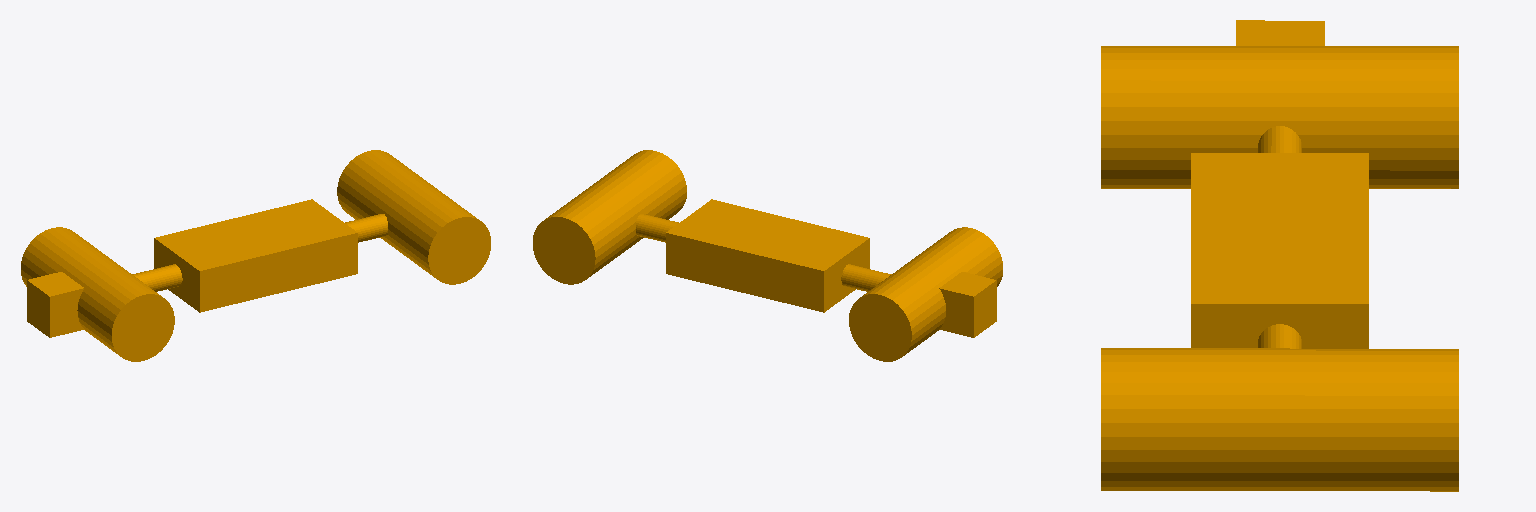
URDF robot description (ez_rassor):
<?xml version="1.0" ?>
<robot name="ez_rassor">
  <joint name="left_wheel_back_hinge" type="revolute">
    <parent link="base_link"/>
    <child link="left_wheel_back"/>
    <origin rpy="0  0  0" xyz="-0.15  0.15  0"/>
    <axis xyz="0  1  0"/>
    <limit effort="-1.0" lower="-1e+16" upper="1e+16" velocity="-1.0"/>
  </joint>
  <joint name="left_wheel_front_hinge" type="revolute">
    <parent link="base_link"/>
    <child link="left_wheel_front"/>
    <origin rpy="0  0  0" xyz="0.15  0.15  0"/>
    <axis xyz="0  1  0"/>
    <limit effort="-1.0" lower="-1e+16" upper="1e+16" velocity="-1.0"/>
  </joint>
  <joint name="right_wheel_back_hinge" type="revolute">
    <parent link="base_link"/>
    <child link="right_wheel_back"/>
    <origin rpy="0  0  0" xyz="-0.15 -0.15  0"/>
    <axis xyz="0  1  0"/>
    <limit effort="-1.0" lower="-1e+16" upper="1e+16" velocity="-1.0"/>
  </joint>
  <joint name="right_wheel_front_hinge" type="revolute">
    <parent link="base_link"/>
    <child link="right_wheel_front"/>
    <origin rpy="0  0  0" xyz="0.15 -0.15  0"/>
    <axis xyz="0  1  0"/>
    <limit effort="-1.0" lower="-1e+16" upper="1e+16" velocity="-1.0"/>
  </joint>
  <link name="base_link">
    <inertial>
      <mass value="22"/>
      <origin rpy="0  0  0" xyz="0       0       0.00454"/>
      <inertia ixx="1" ixy="0" ixz="0" iyy="1" iyz="0" izz="1"/>
    </inertial>
    <collision name="ez_rassor_base_link_fixed_joint_lump__collision_collision_1">
      <origin rpy="3.14159000e+00   1.57079000e+00  -8.90000000e-04" xyz="-3.00000000e-01   8.00000000e-05   0.00000000e+00"/>
      <geometry>
        <cylinder length="0.3" radius="0.025"/>
      </geometry>
    </collision>
    <collision name="ez_rassor_base_link_fixed_joint_lump__camera_back_collision_3">
      <origin rpy="3.14159  1.57079  1.56841" xyz="-5.00000000e-01   3.10000000e-04   0.00000000e+00"/>
      <geometry>
        <box size="0.1 0.1 0.1"/>
      </geometry>
    </collision>
    <collision name="ez_rassor_base_link_fixed_joint_lump__collision_collision">
      <origin rpy="0  0  0" xyz="0  0  0"/>
      <geometry>
        <box size="0.4 0.2 0.1"/>
      </geometry>
    </collision>
    <collision name="ez_rassor_base_link_fixed_joint_lump__collision_collision_2">
      <origin rpy="-3.14159  1.57079  1.56911" xyz="-4.00000000e-01   1.50000000e-04   0.00000000e+00"/>
      <geometry>
        <cylinder length="0.05" radius="0.07"/>
      </geometry>
    </collision>
    <collision name="ez_rassor_base_link_fixed_joint_lump__collision_collision_4">
      <origin rpy="3.14159000e+00   1.57079000e+00  -8.90000000e-04" xyz="3.00000000e-01  -8.00000000e-05   0.00000000e+00"/>
      <geometry>
        <cylinder length="0.3" radius="0.025"/>
      </geometry>
    </collision>
    <collision name="ez_rassor_base_link_fixed_joint_lump__collision_collision_5">
      <origin rpy="-3.14159  1.57079  1.56911" xyz="4.00000000e-01  -1.50000000e-04   0.00000000e+00"/>
      <geometry>
        <cylinder length="0.05" radius="0.07"/>
      </geometry>
    </collision>
    <visual name="ez_rassor_base_link_fixed_joint_lump__arm_back_visual_visual_1">
      <origin rpy="-3.14157000e+00   1.57079000e+00  -8.60000000e-04" xyz="-3.00000000e-01   8.00000000e-05   0.00000000e+00"/>
      <geometry>
        <cylinder length="0.3" radius="0.025"/>
      </geometry>
    </visual>
    <visual name="ez_rassor_base_link_visual_visual">
      <origin rpy="0  0  0" xyz="0  0  0"/>
      <geometry>
        <box size="0.4 0.2 0.1"/>
      </geometry>
    </visual>
    <visual name="ez_rassor_base_link_fixed_joint_lump__arm_front_visual_visual_4">
      <origin rpy="-3.14157000e+00   1.57079000e+00  -8.60000000e-04" xyz="3.00000000e-01  -8.00000000e-05   0.00000000e+00"/>
      <geometry>
        <cylinder length="0.3" radius="0.025"/>
      </geometry>
    </visual>
    <visual name="ez_rassor_base_link_fixed_joint_lump__drum_back_visual_2">
      <origin rpy="-3.14075  1.57079  1.56995" xyz="-4.00000000e-01   1.50000000e-04   0.00000000e+00"/>
      <geometry>
        <cylinder length="0.4" radius="0.08"/>
      </geometry>
    </visual>
    <visual name="ez_rassor_base_link_fixed_joint_lump__camera_back_visual_3">
      <origin rpy="0    0    3.14" xyz="-5.00000000e-01   3.10000000e-04   0.00000000e+00"/>
      <geometry>
        <box size="0.1 0.1 0.1"/>
      </geometry>
    </visual>
    <visual name="ez_rassor_base_link_fixed_joint_lump__drum_front_visual_visual_5">
      <origin rpy="-3.14075  1.57079  1.56995" xyz="4.00000000e-01  -1.50000000e-04   0.00000000e+00"/>
      <geometry>
        <cylinder length="0.4" radius="0.08"/>
      </geometry>
    </visual>
  </link>
  <link name="left_wheel_back">
    <inertial>
      <mass value="0.5"/>
      <origin rpy="0      1.5707  1.5707" xyz="0  0  0"/>
      <inertia ixx="0.00135417" ixy="0" ixz="0" iyy="0.00135417" iyz="0" izz="0.0025"/>
    </inertial>
    <collision name="ez_rassor_left_wheel_back_fixed_joint_lump__collision_collision">
      <origin rpy="3.14159  1.57079 -1.57089" xyz="0   -0.06  0"/>
      <geometry>
        <mesh filename="package://ez_rassor_description/meshes/wheel.dae" scale="1.0 1.0 1.0"/>
      </geometry>
    </collision>
    <visual name="ez_rassor_left_wheel_back_visual_visual">
      <origin rpy="-3.12268  1.57079 -1.55198" xyz="0   -0.06  0"/>
      <geometry>
        <mesh filename="package://ez_rassor_description/meshes/wheel.dae" scale="1 1 1"/>
      </geometry>
    </visual>
  </link>
  <link name="left_wheel_front">
    <inertial>
      <mass value="0.5"/>
      <origin rpy="0      1.5707  1.5707" xyz="0  0  0"/>
      <inertia ixx="0.00135417" ixy="0" ixz="0" iyy="0.00135417" iyz="0" izz="0.0025"/>
    </inertial>
    <collision name="ez_rassor_left_wheel_front_fixed_joint_lump__collision_collision">
      <origin rpy="3.14159  1.57079 -1.57089" xyz="0   -0.06  0"/>
      <geometry>
        <mesh filename="package://ez_rassor_description/meshes/wheel.dae" scale="1.0 1.0 1.0"/>
      </geometry>
    </collision>
    <visual name="ez_rassor_left_wheel_front_visual_visual">
      <origin rpy="-3.12268  1.57079 -1.55198" xyz="0   -0.06  0"/>
      <geometry>
        <mesh filename="package://ez_rassor_description/meshes/wheel.dae" scale="1 1 1"/>
      </geometry>
    </visual>
  </link>
  <link name="right_wheel_back">
    <inertial>
      <mass value="0.5"/>
      <origin rpy="0      1.5707  1.5707" xyz="0  0  0"/>
      <inertia ixx="0.00135417" ixy="0" ixz="0" iyy="0.00135417" iyz="0" izz="0.0025"/>
    </inertial>
    <collision name="ez_rassor_right_wheel_back_fixed_joint_lump__collision_collision">
      <origin rpy="0       1.57079 -1.57089" xyz="0    0.06  0"/>
      <geometry>
        <mesh filename="package://ez_rassor_description/meshes/wheel.dae" scale="1.0 1.0 1.0"/>
      </geometry>
    </collision>
    <visual name="ez_rassor_right_wheel_back_visual_visual">
      <origin rpy="-0.00702  1.57079 -1.57316" xyz="0    0.06  0"/>
      <geometry>
        <mesh filename="package://ez_rassor_description/meshes/wheel.dae" scale="1 1 1"/>
      </geometry>
    </visual>
  </link>
  <link name="right_wheel_front">
    <inertial>
      <mass value="0.5"/>
      <origin rpy="0      1.5707  1.5707" xyz="0  0  0"/>
      <inertia ixx="0.00135417" ixy="0" ixz="0" iyy="0.00135417" iyz="0" izz="0.0025"/>
    </inertial>
    <collision name="ez_rassor_right_wheel_front_fixed_joint_lump__collision_collision">
      <origin rpy="0       1.57079 -1.57089" xyz="0    0.06  0"/>
      <geometry>
        <mesh filename="package://ez_rassor_description/meshes/wheel.dae" scale="1.0 1.0 1.0"/>
      </geometry>
    </collision>
    <visual name="ez_rassor_right_wheel_front_visual_visual">
      <origin rpy="-0.00702  1.57079 -1.57316" xyz="0    0.06  0"/>
      <geometry>
        <mesh filename="package://ez_rassor_description/meshes/wheel.dae" scale="1 1 1"/>
      </geometry>
    </visual>
  </link>
</robot>

--- What the picture shows (computed from the rendered views, not written in the file) ---
Views: 3 orthographic renders of the robot side by side, from view 1: azimuth 30°, elevation 25°; view 2: azimuth 150°, elevation 25°; view 3: azimuth 270°, elevation 25°.
Model ez_rassor with 5 links and 4 joints (4 revolute), rooted at base_link, posed all joints at 0.
Visible links, largest first — view 1: base_link; view 2: base_link; view 3: base_link.
Boxes of the visible links, x1,y1,x2,y2 form: base_link: (21, 150, 490, 361); base_link: (533, 150, 1002, 361); base_link: (1101, 20, 1458, 491).
Bounding box of the posed robot: 1.03 × 0.4006 × 0.16 m (x, y, z).
0 mesh visuals loaded from 1 distinct referenced files (none loaded); not drawn: 4 (file found but could not be loaded).